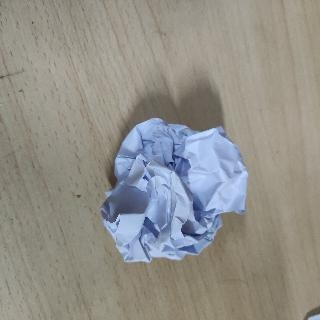8/可回收垃圾/纸: (98, 117, 249, 263)
